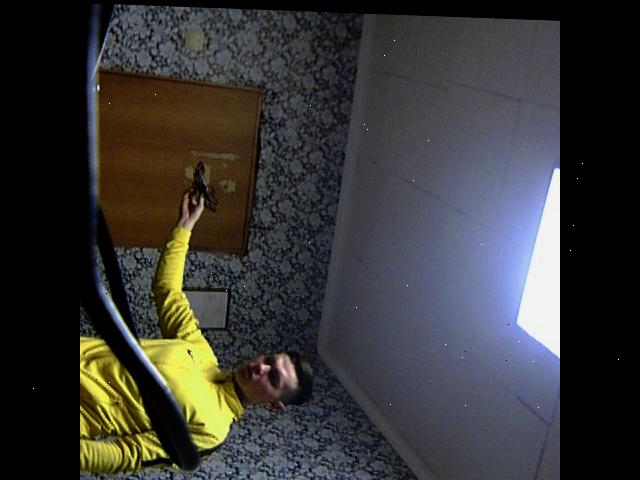drone: (182, 154, 228, 218)
